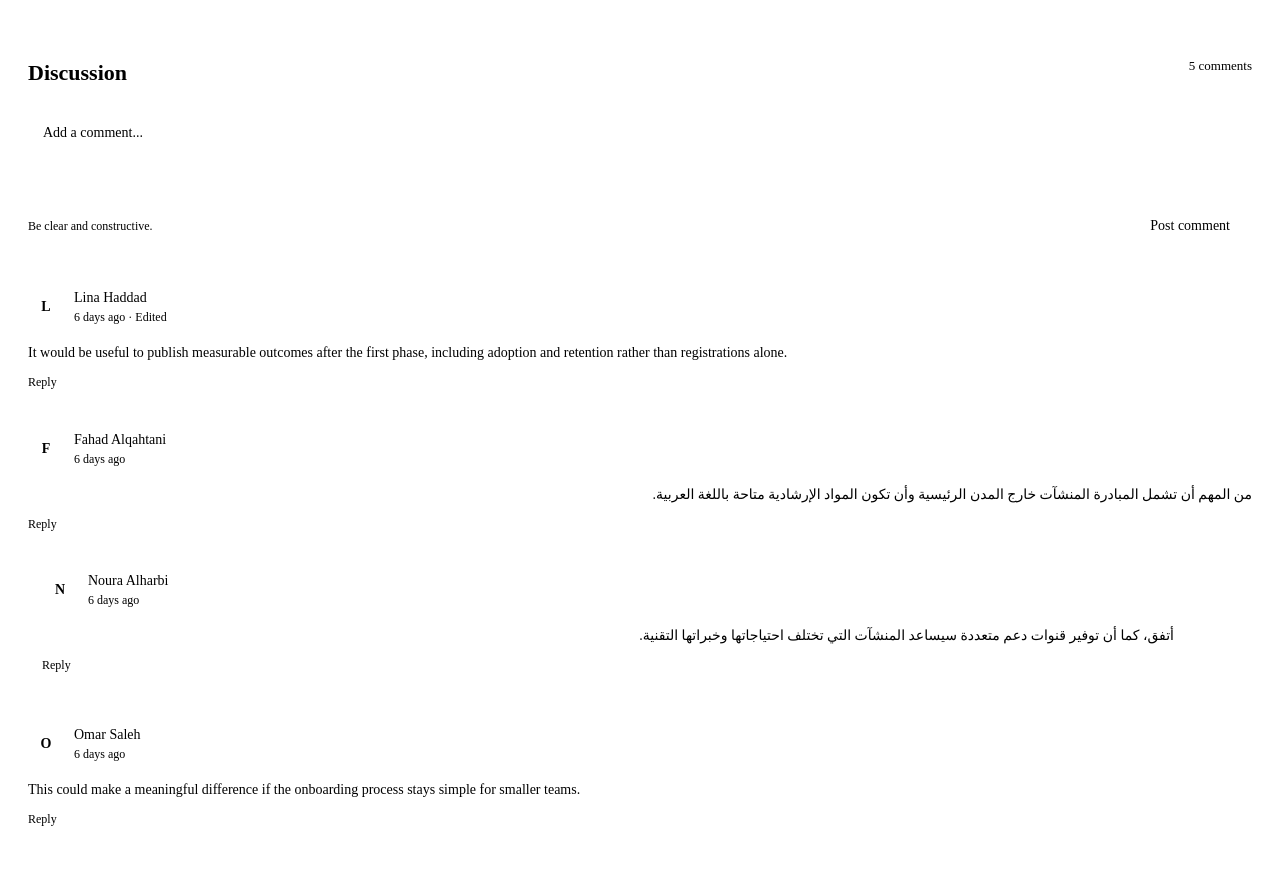
Test: <Discussion> (web) › posts a comment: it appears first, the field clears, and it is announced (J-2, A-2)
Type "Count me in for the pilot." into the text box labelled "Add a comment" at (640, 151), box [28,109,1252,193]
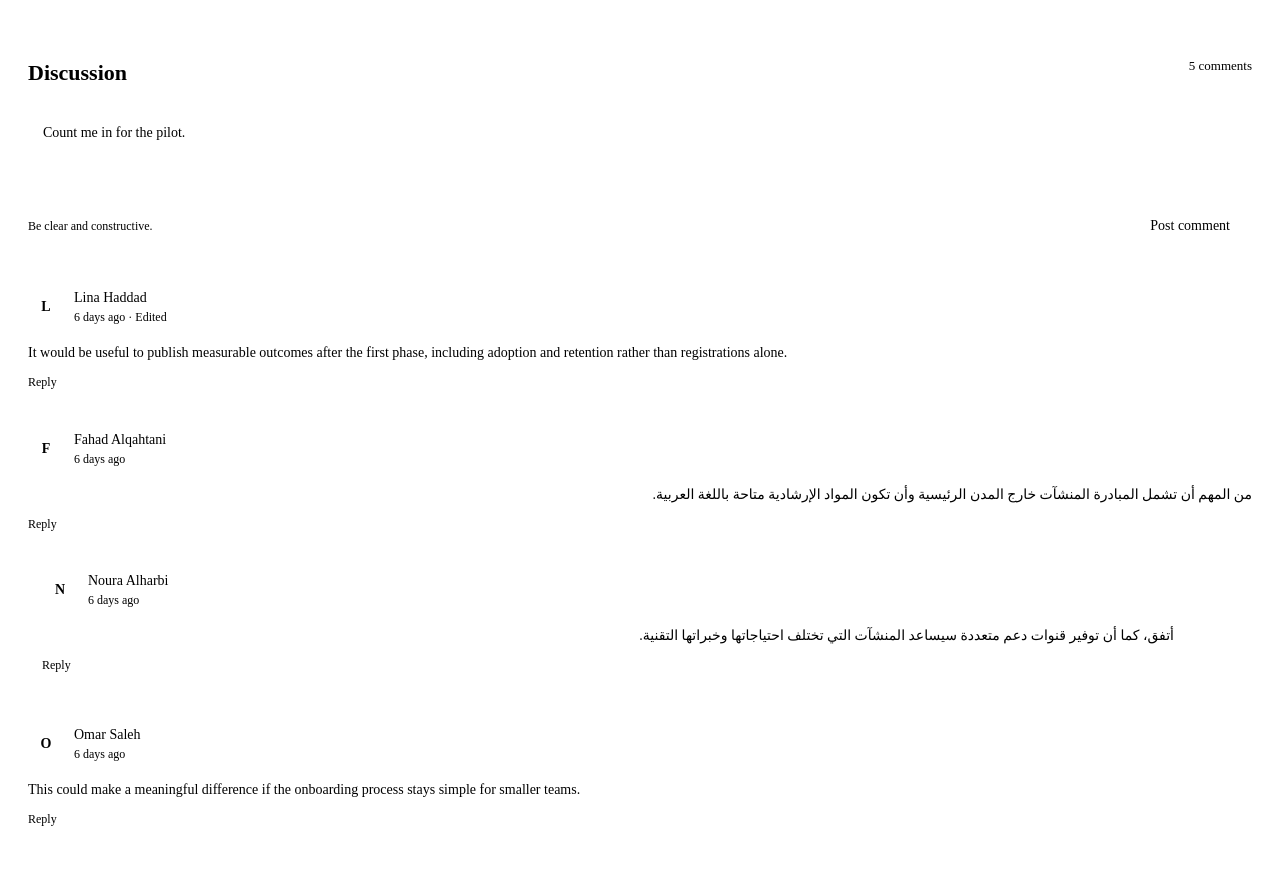
Click the button "Post comment" at (1190, 226), box [1128,204,1252,248]
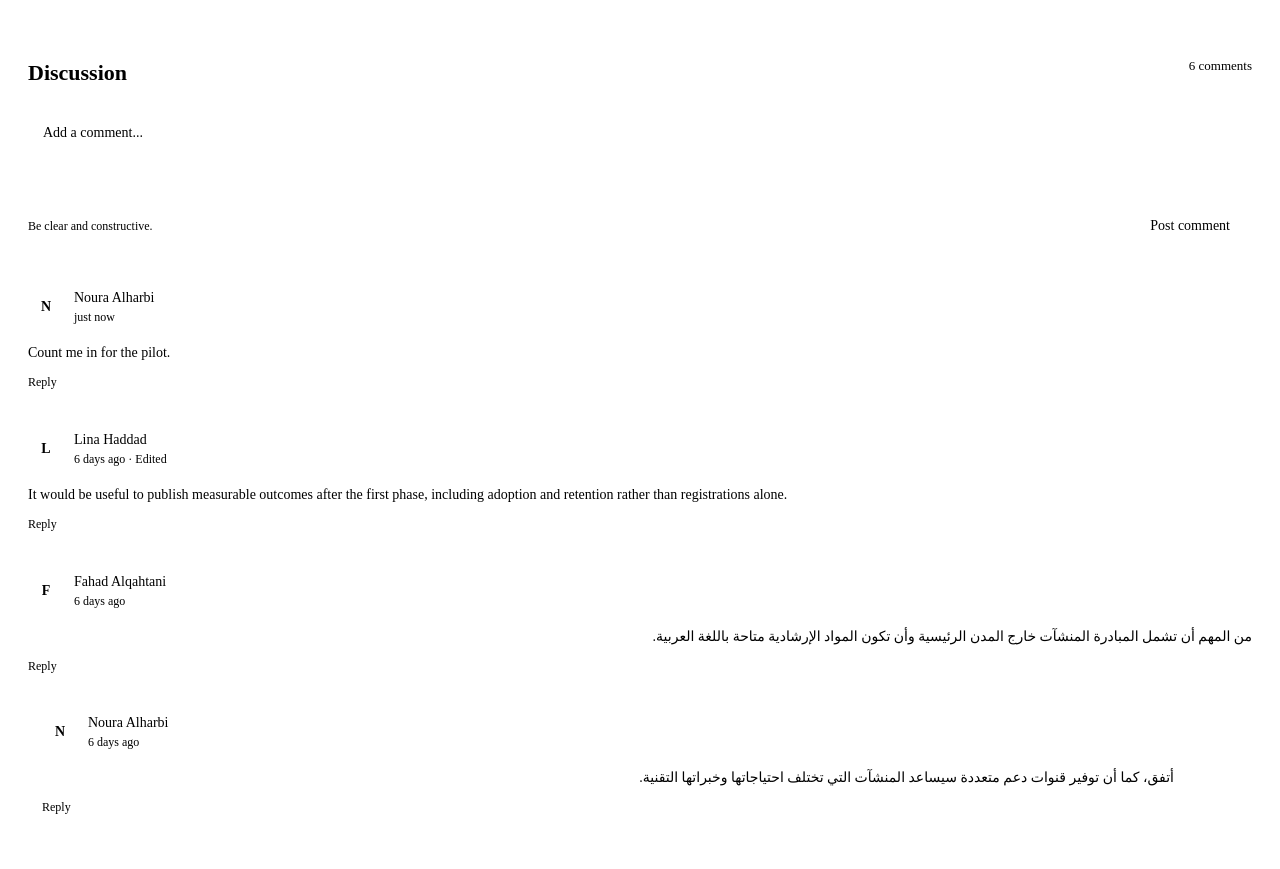
Result: the element showing "N Noura Alharbi just now Count me in for the pilot. Reply" is shown at [24,289,186,394]
Result: the text box labelled "Add a comment" is empty at [28,109,1252,193]
Result: the text "6 comments" is shown at [1189,57,1252,75]
